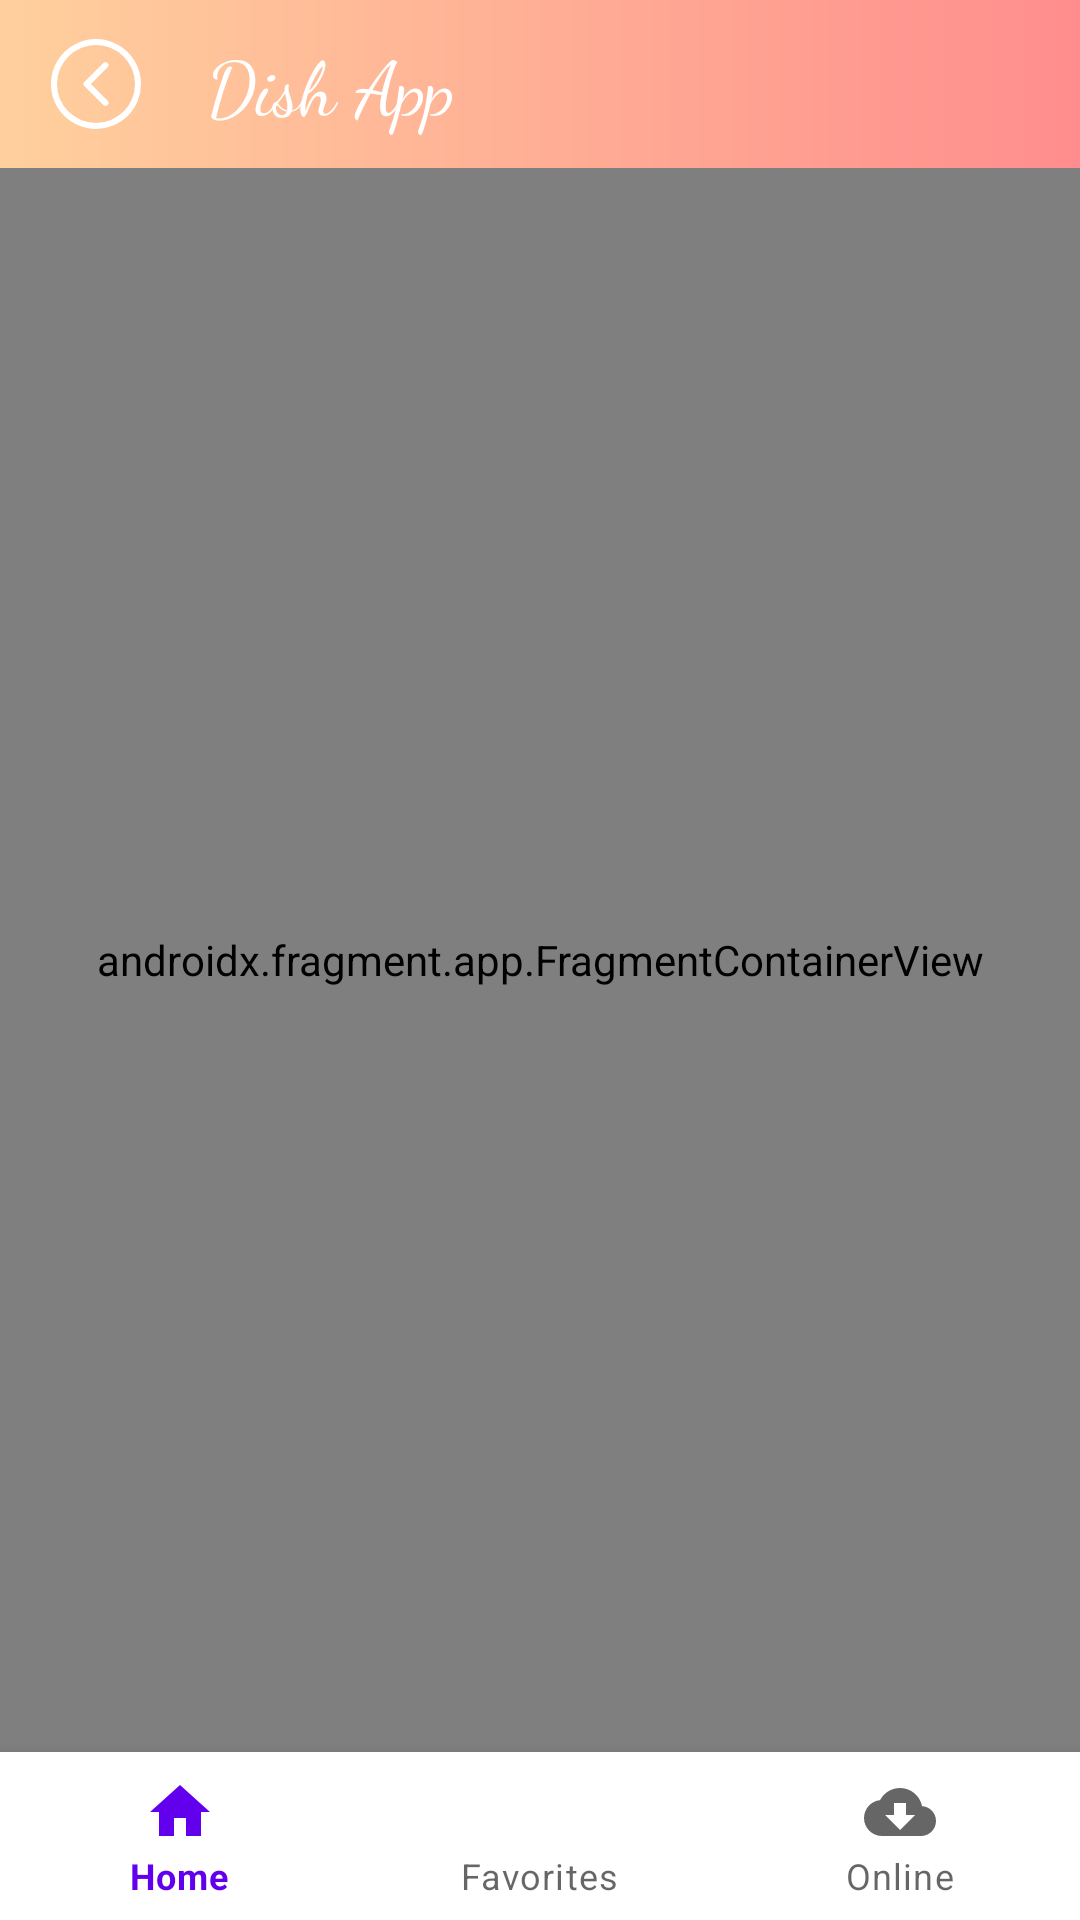

Icons on this 1080px x 1920px Android screen, each with its box as (x1, y1, x2, y2):
back: (51, 39, 141, 129)
